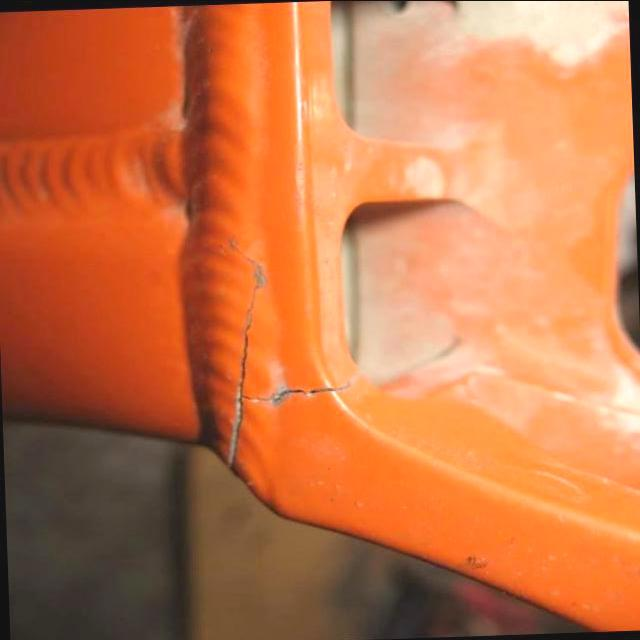defect: (222, 230, 365, 467)
